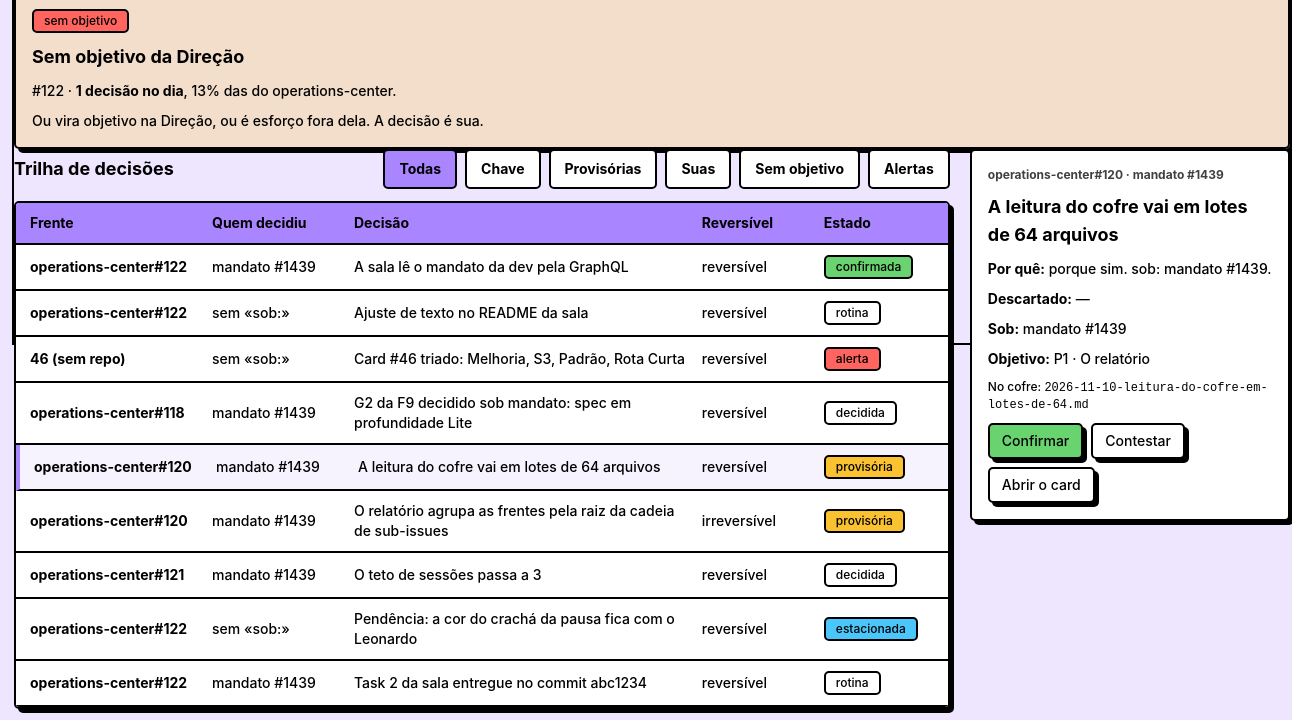
Scenario: Portfólio: o detalhe › o sem-repo: objetivo "nenhum; escopo gravado sem o repo", sem marca sob
This screenshot has width=1292, height=720.
(page scrolled)
Expected: the element with test id "fabrica-portfolio-detalhe" is shown, [970,149,1290,521]
Click the button that starts with "46 (sem repo)" at {"x": 482, "y": 360}, box [16,337,948,383]
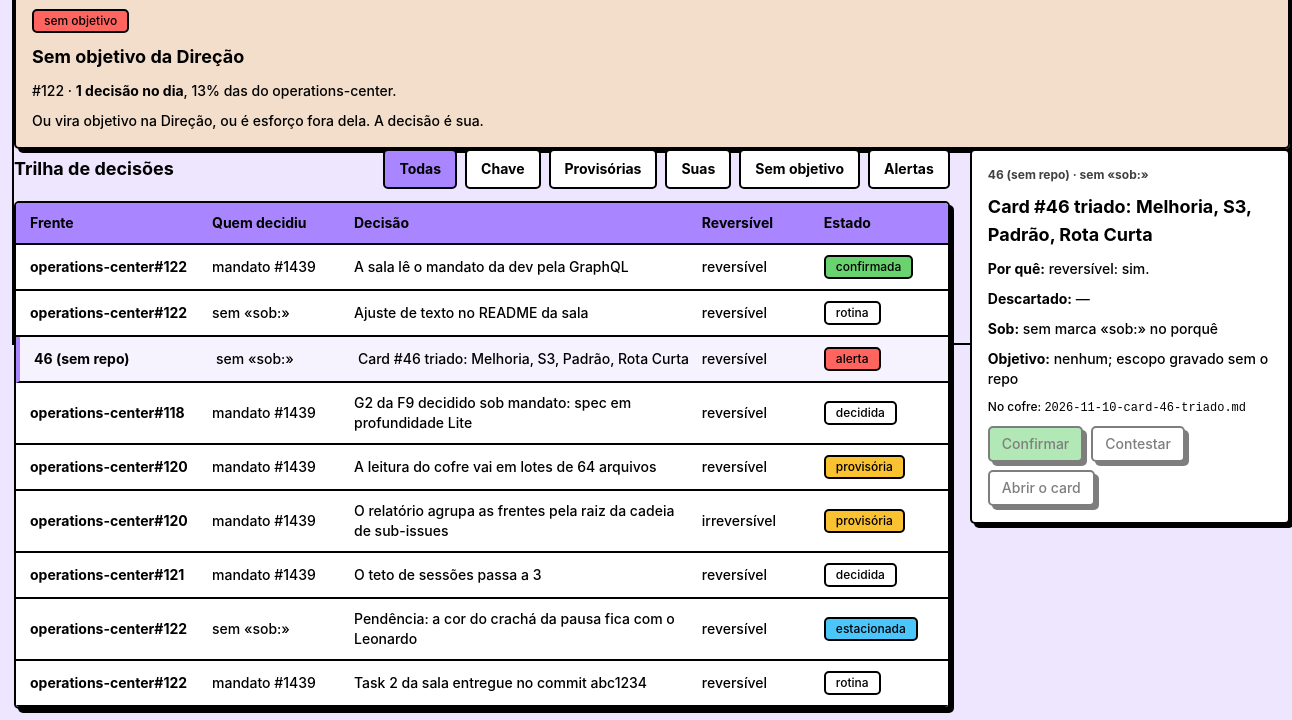
Expected: the element with test id "fabrica-portfolio-detalhe" shows "Descartado: —", [970,149,1290,524]
Now the element with test id "fabrica-portfolio-detalhe" shows "Objetivo: nenhum; escopo gravado sem o repo", box [970,149,1290,524]
Now the element with test id "fabrica-portfolio-detalhe" shows "Sob: sem marca «sob:» no porquê", box [970,149,1290,524]
